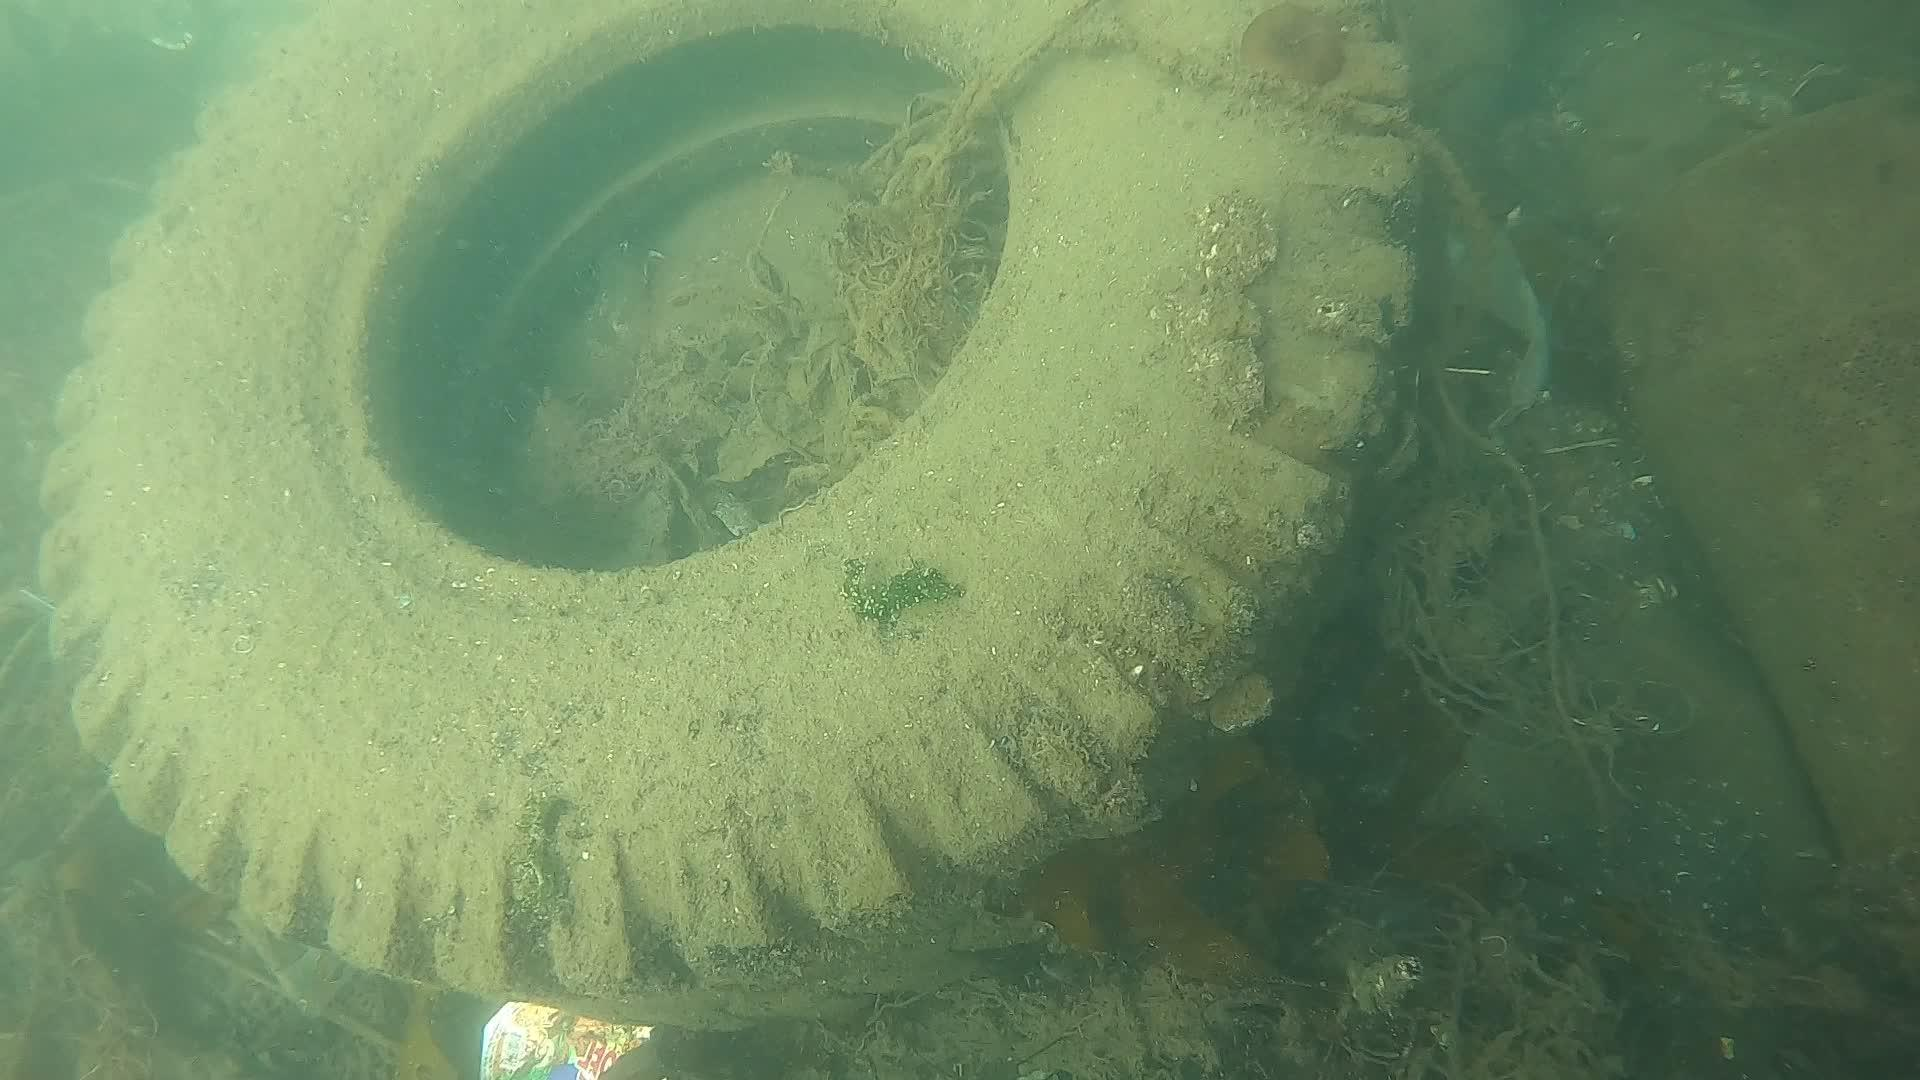tire: (34, 0, 1414, 1033)
